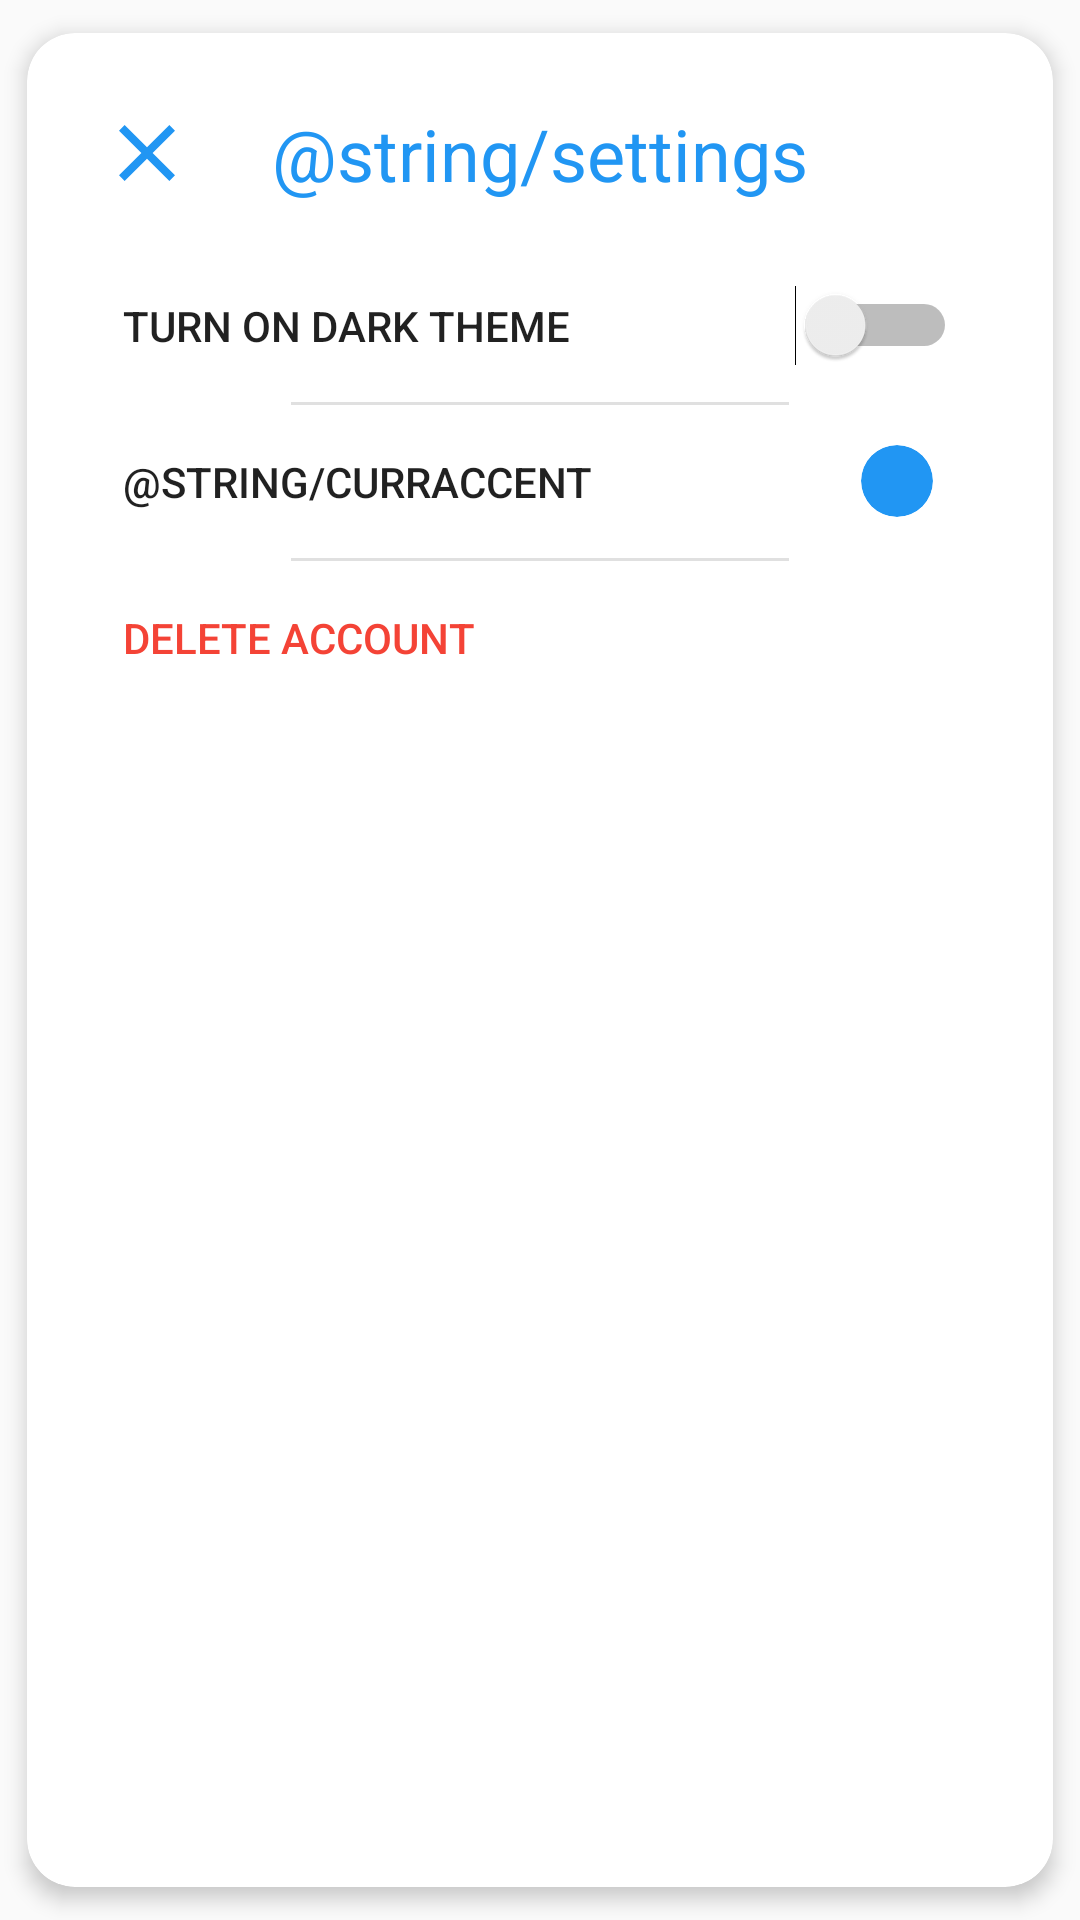

Icon bounding boxes for this 1080x1920 phone screenshot, format region(x1, y1, x2, y2):
close: region(119, 125, 175, 181)
